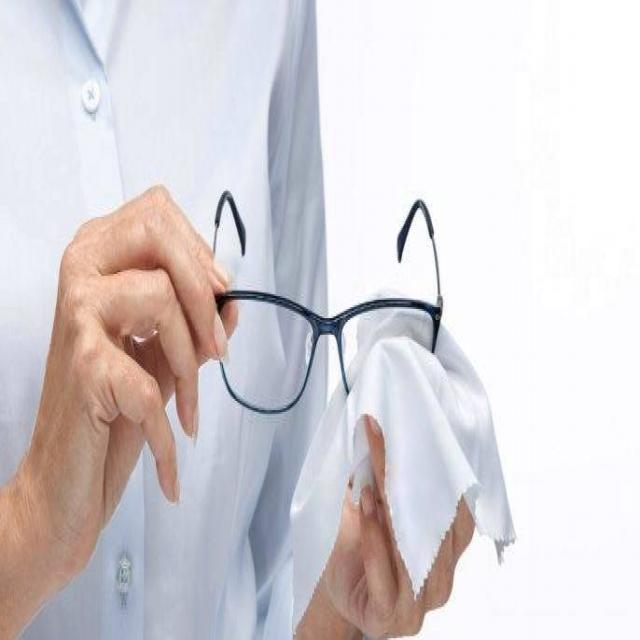Glasses: (202, 180, 446, 423)
